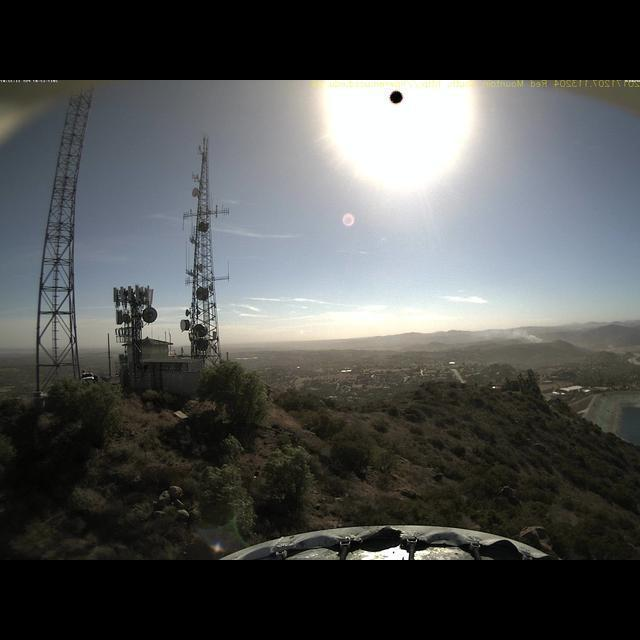Smoke: (477, 315, 543, 347)
